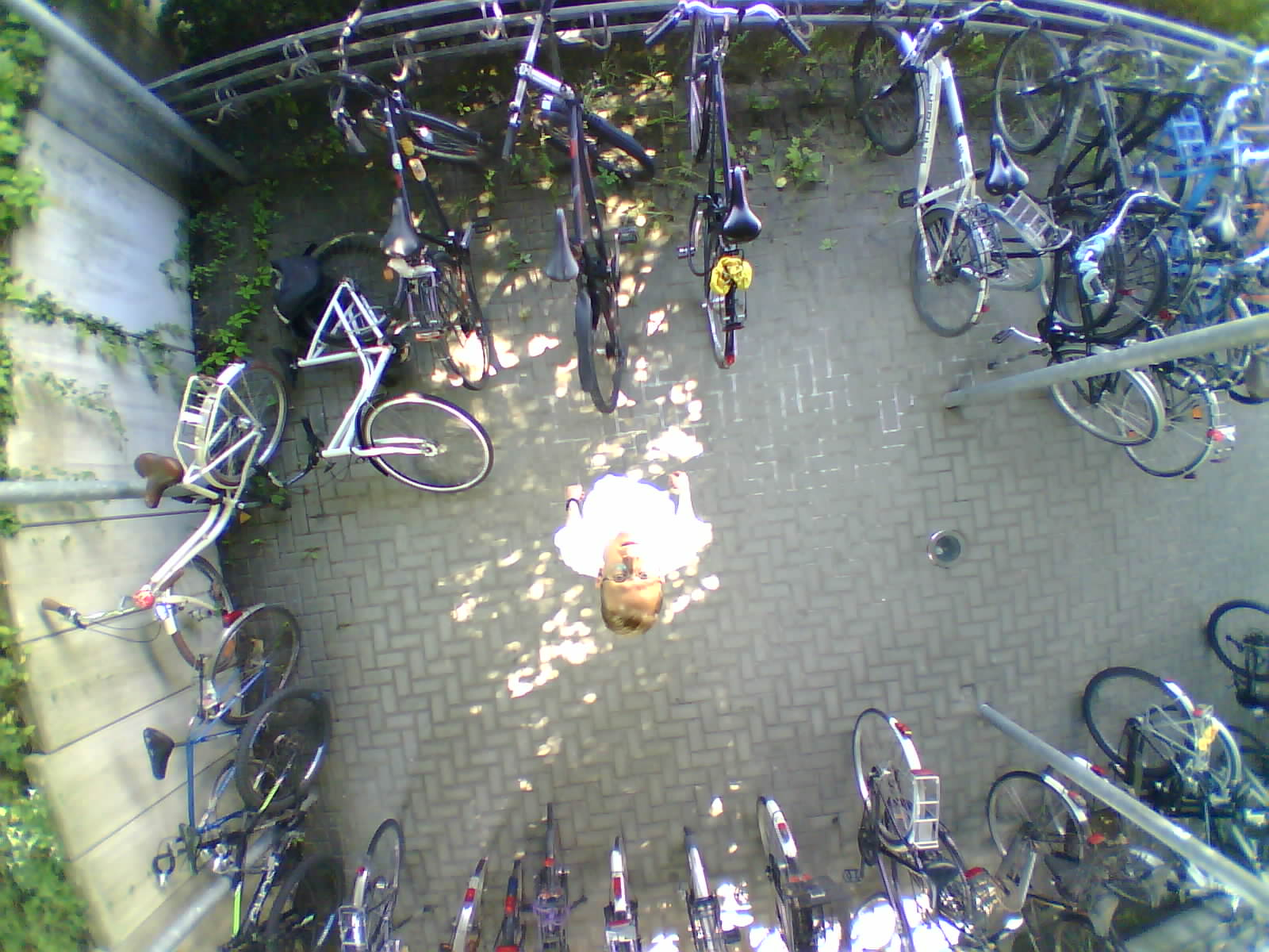bicylce: (995, 24, 1185, 349), (133, 356, 300, 718), (842, 15, 1031, 334), (253, 247, 495, 480), (131, 701, 341, 950), (521, 11, 647, 407), (947, 212, 1159, 444), (354, 69, 493, 388), (667, 13, 770, 360), (988, 768, 1170, 939), (847, 708, 969, 952)
saddle: (536, 199, 583, 289), (712, 165, 765, 244), (371, 195, 429, 257), (980, 133, 1033, 197), (268, 257, 324, 317), (129, 448, 182, 510), (1130, 148, 1177, 217), (1200, 187, 1243, 251), (1123, 856, 1175, 907), (909, 860, 958, 913), (135, 725, 171, 785)
